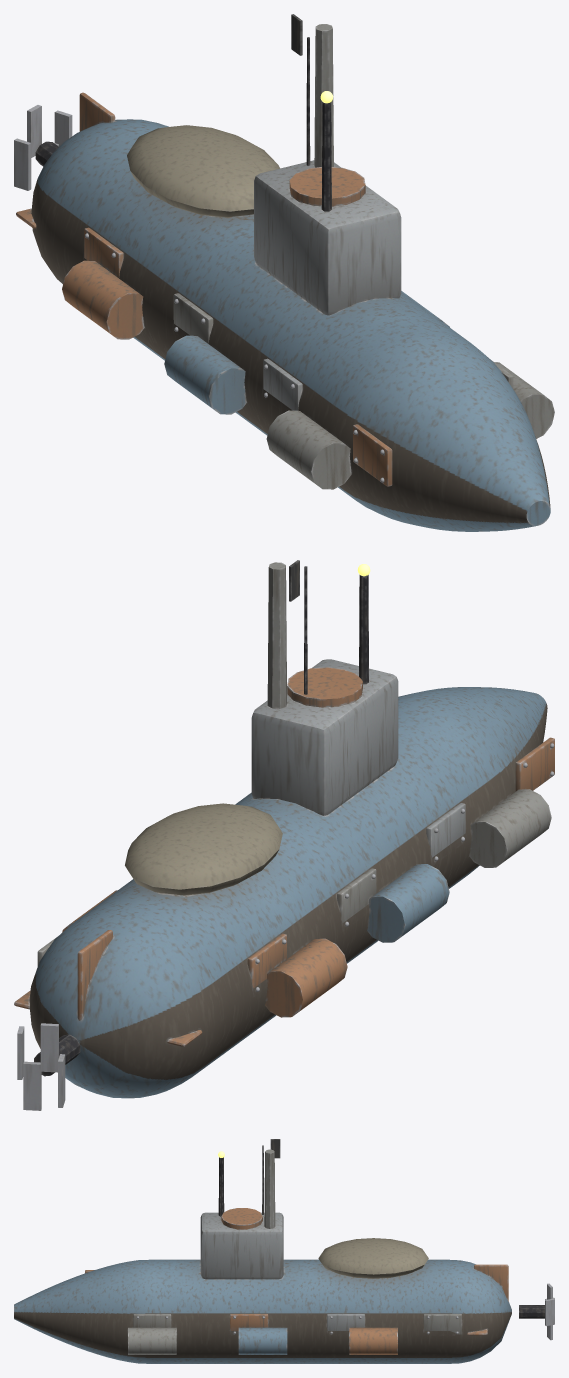
File: minisub.glb
3 renders of one model, top to bottom at view 1: azimuth 30°, elevation 25°; view 2: azimuth 150°, elevation 25°; view 3: azimuth 270°, elevation 25°, orthographic. The views are drawn at different scales.
Parts seen in each view (by area): view 1: Hull; view 2: Hull; view 3: Hull.
Boxes of the visible parts, x1,y1,x2,y2 form: Hull: (14,14,554,531); Hull: (14,560,554,1110); Hull: (14,1139,554,1363).
Size of the model in its own units: 2.2 by 3.5 by 7.82.
Materials: 10 (10 with a texture image).
